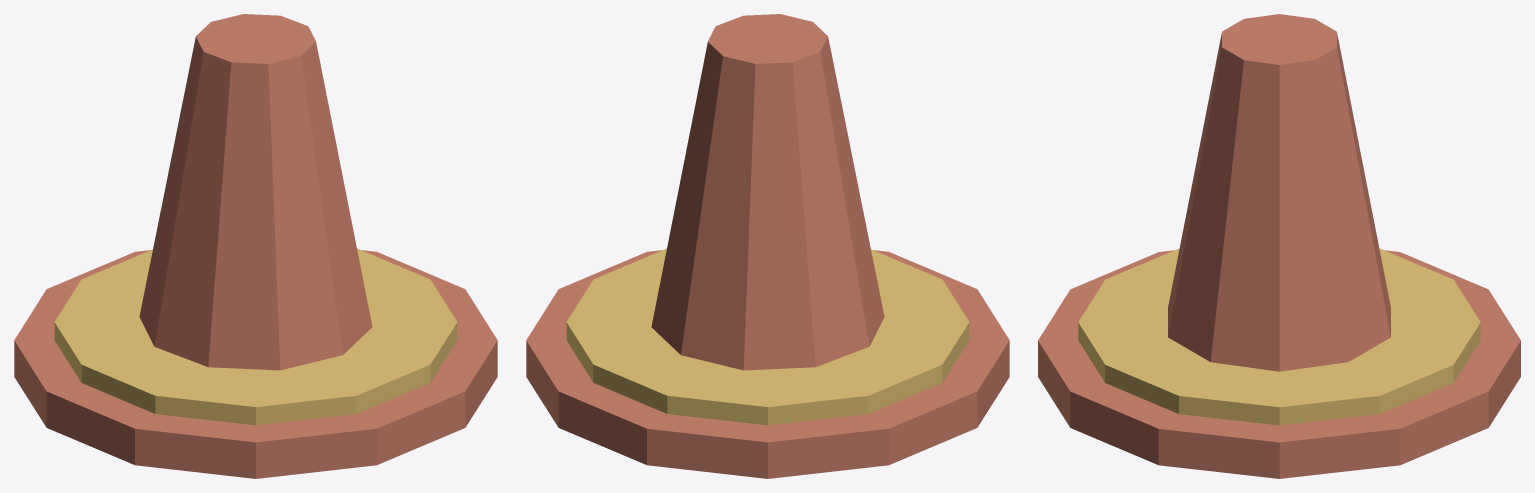
The model's file is chicken-feeder.glb.
3 renders of one model, left to right at view 1: azimuth 30°, elevation 25°; view 2: azimuth 150°, elevation 25°; view 3: azimuth 270°, elevation 25°, orthographic.
Parts seen in each view (by area): view 1: chicken-feeder; view 2: chicken-feeder; view 3: chicken-feeder.
Boxes of the visible parts, left/top/right/bottom form: chicken-feeder: left=14, top=14, right=497, bottom=478; chicken-feeder: left=526, top=14, right=1009, bottom=478; chicken-feeder: left=1038, top=14, right=1520, bottom=478.
Size of the model in its own units: 0.48 by 0.37 by 0.48.
